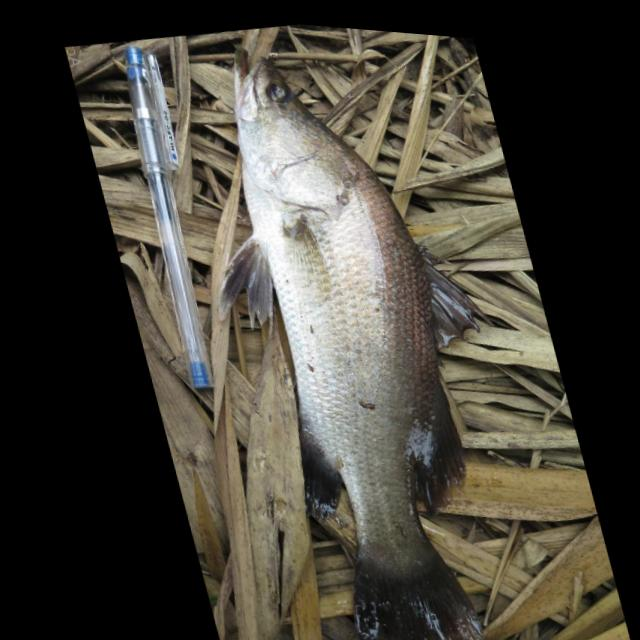Seabass: (143, 12, 582, 640)
